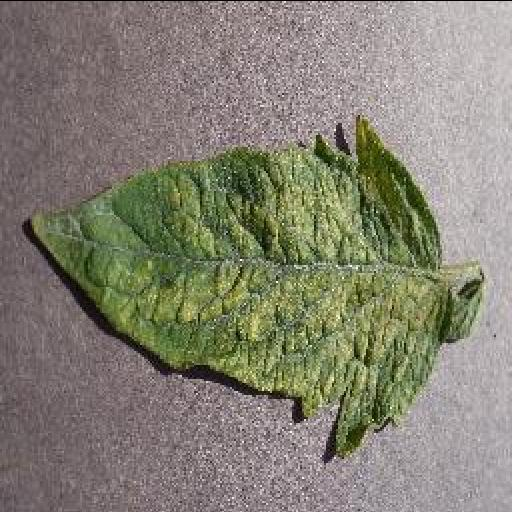disease_tomato: (28, 115, 450, 453)
